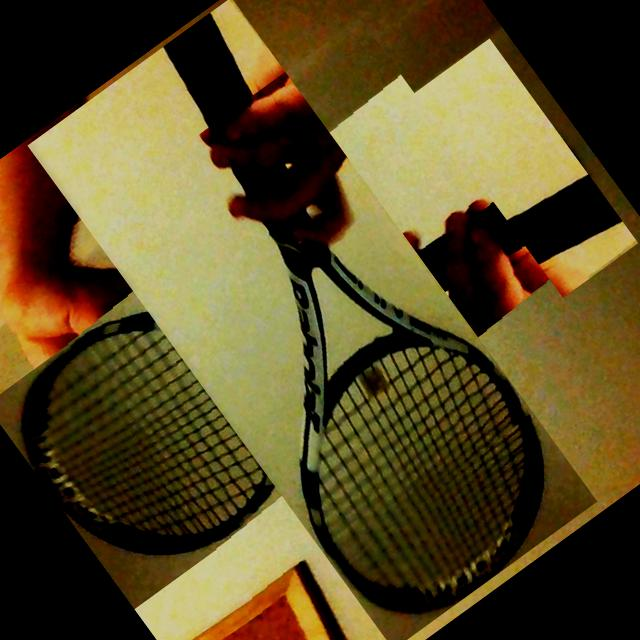TennisRacket: (5, 16, 617, 628)
